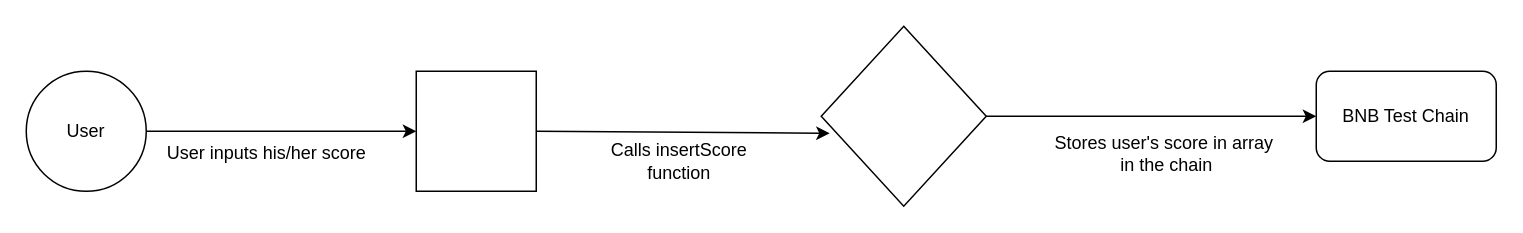
This 1523x233 diagram has some shape labels left out. Here are the shapes that lost their labels. From the top down, the centre of each, then its label:
the point at 475,130: React webpage
the point at 903,115: Smart Contract
